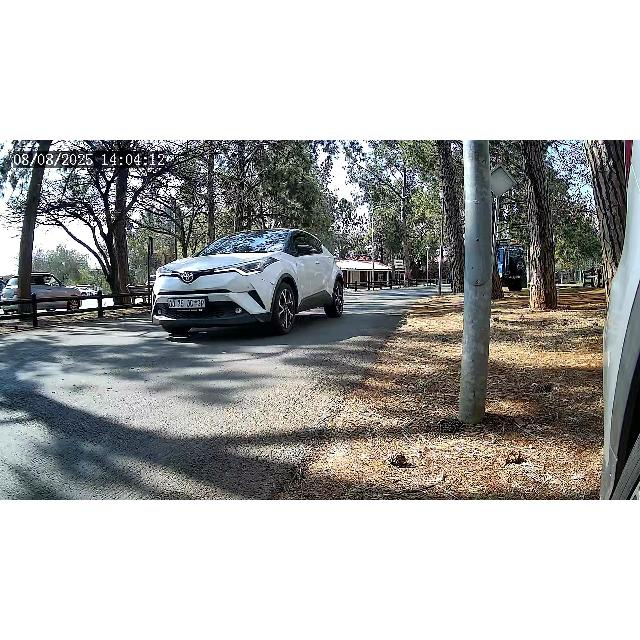car: (150, 228, 346, 338), (1, 271, 88, 315)
plate: (168, 298, 206, 310)
